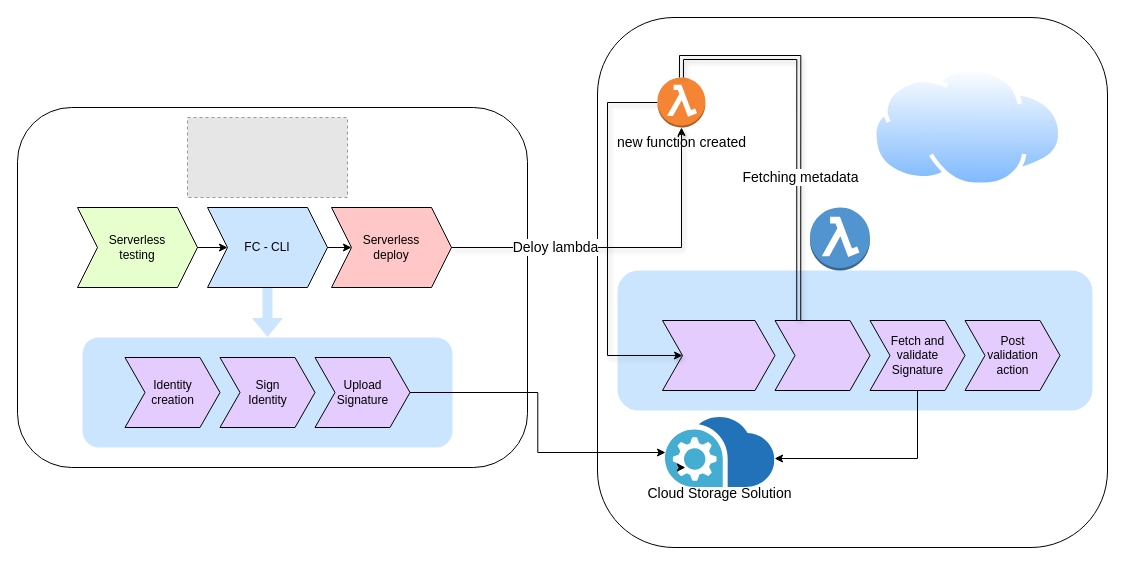
Image size: 1125x565. Some labels were removed from this diagram. Grey dashed boxes stand in for pictures. The centre of each missing label's shape, as x and y in pixels:
Calculate Lambda Identity: the point at 822,355
FC - verifier: the point at 839,238
triggerd on function creation: the point at 718,355
User Cloud (GCP AWS AZURE): the point at 967,127
